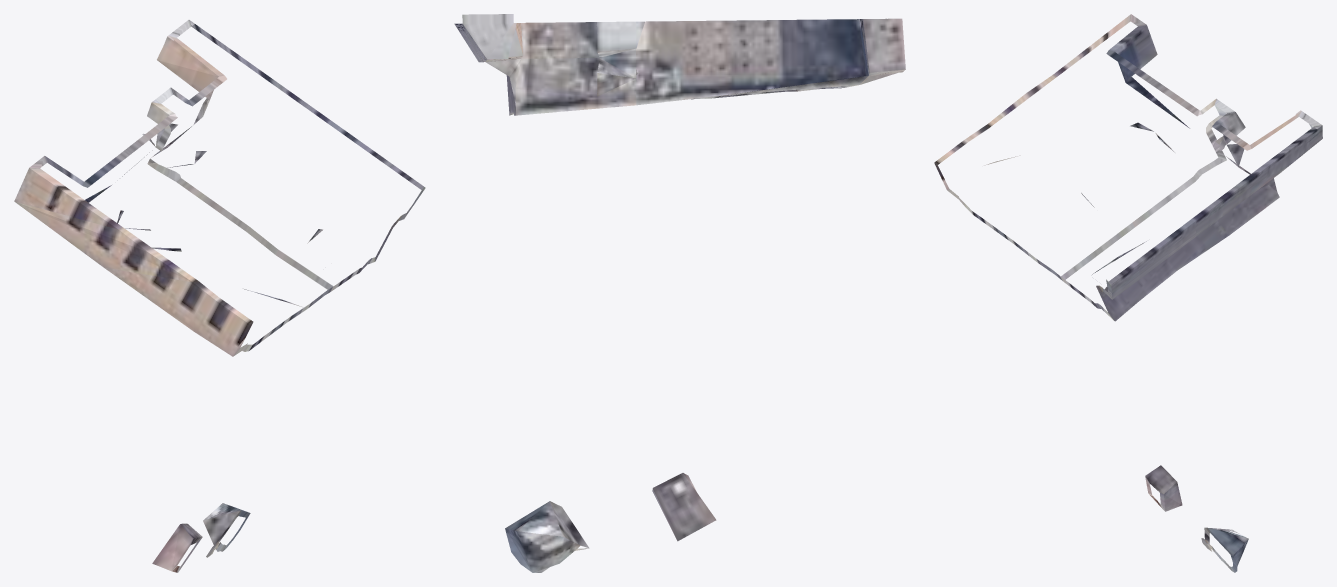
3 views of the same model, side by side, from view 1: azimuth 30°, elevation 25°; view 2: azimuth 150°, elevation 25°; view 3: azimuth 270°, elevation 25° (orthographic). The views are drawn at different scales.
Bounding box in the file's own units: 55.91 × 67.41 × 51.83.
1 material, 1 textured.
